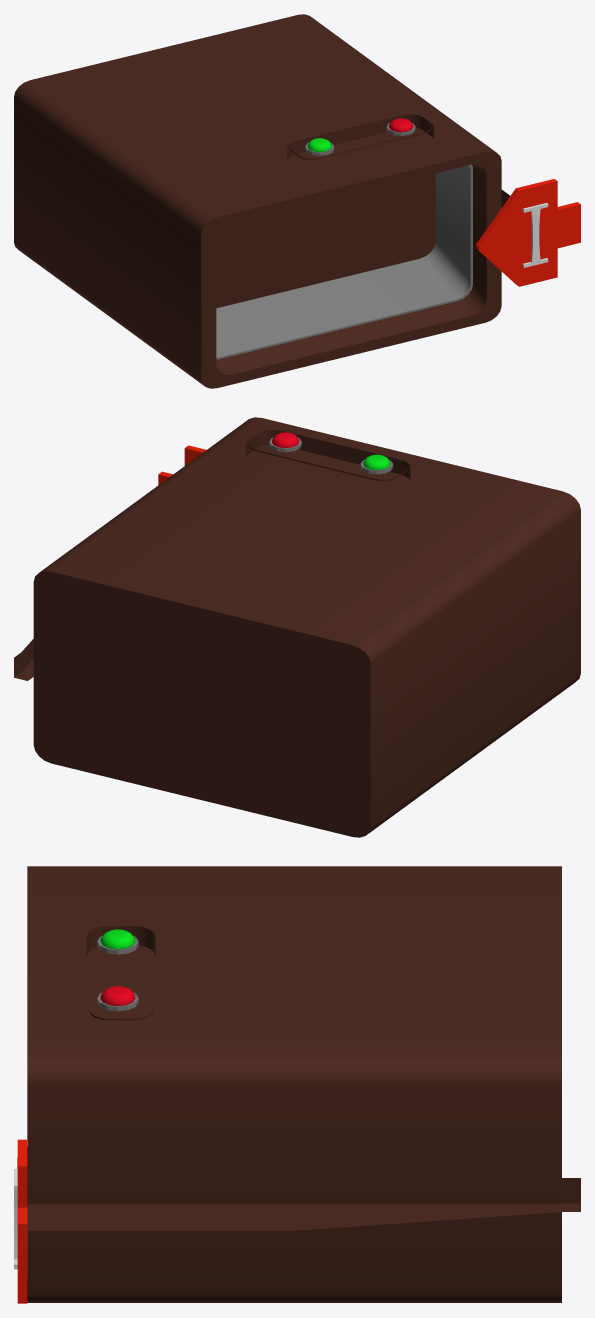
Rendered from slot1.fbx.
The picture shows the model from 3 angles, top to bottom: view 1: azimuth 30°, elevation 25°; view 2: azimuth 150°, elevation 25°; view 3: azimuth 270°, elevation 25°; orthographic projection. The views are drawn at different scales.
Parts seen in each view (by area): view 1: Slot1; view 2: Slot1; view 3: Slot1.
Boxes of the visible parts, <box> form: Slot1: <box>14,14,580,388</box>; Slot1: <box>14,417,580,837</box>; Slot1: <box>14,866,580,1303</box>.
Size of the model in its own units: 381 by 185 by 348.
